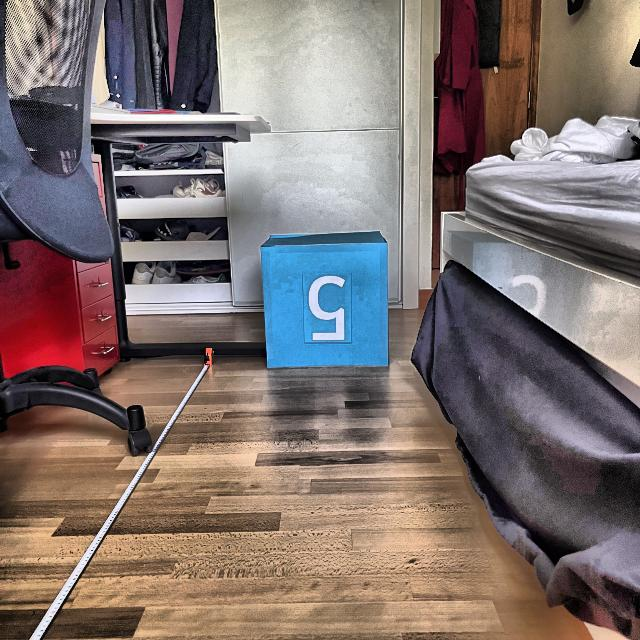blue box: (256, 230, 392, 370)
five: (307, 272, 349, 343)
